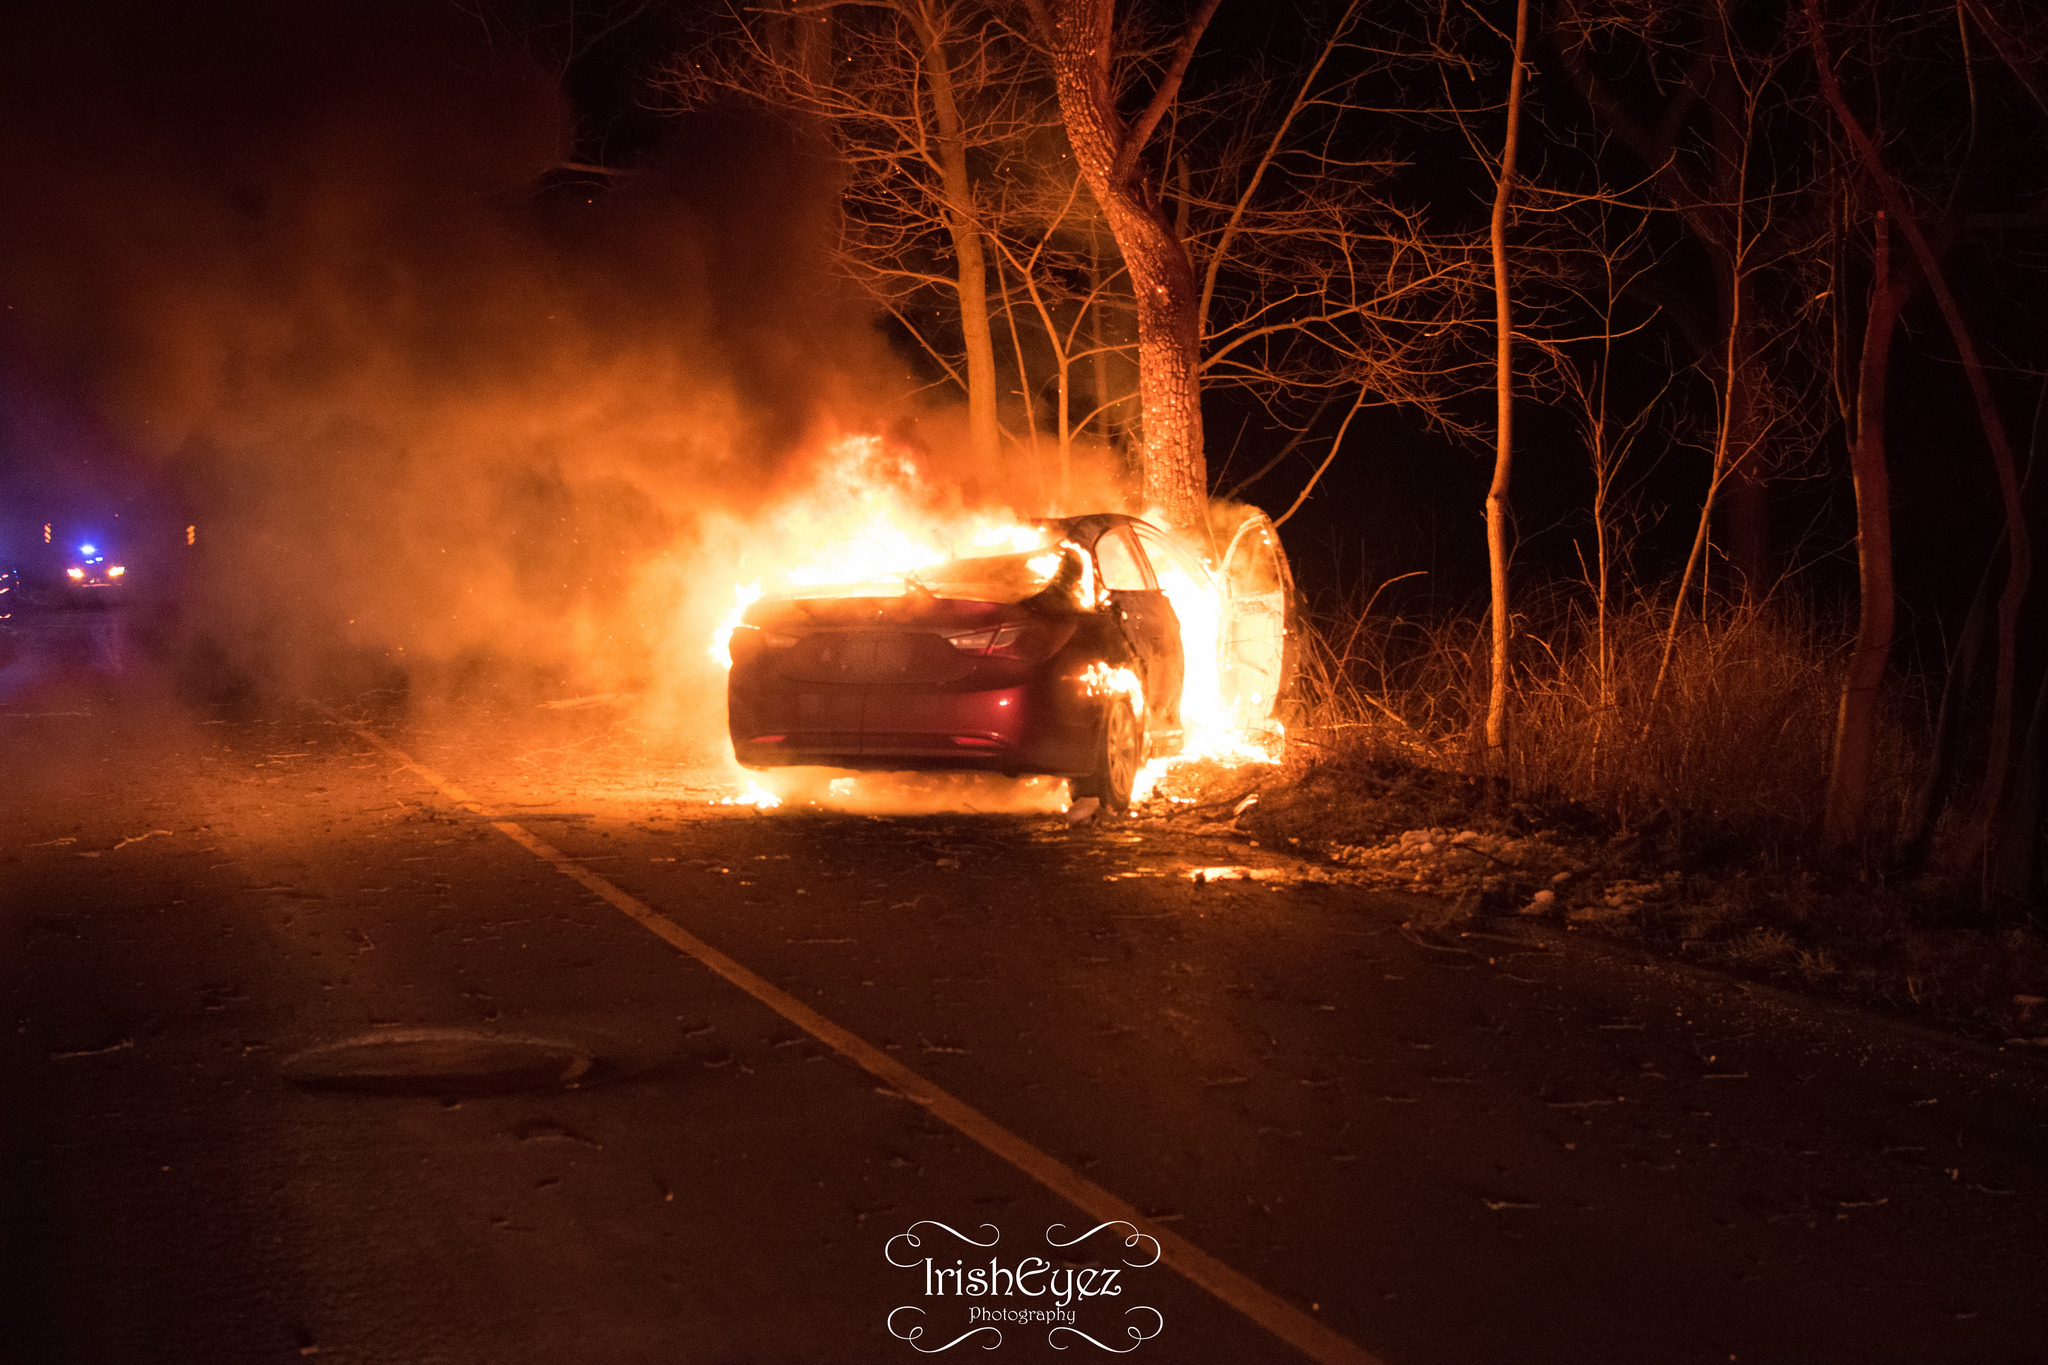fire: (687, 436, 1281, 821)
